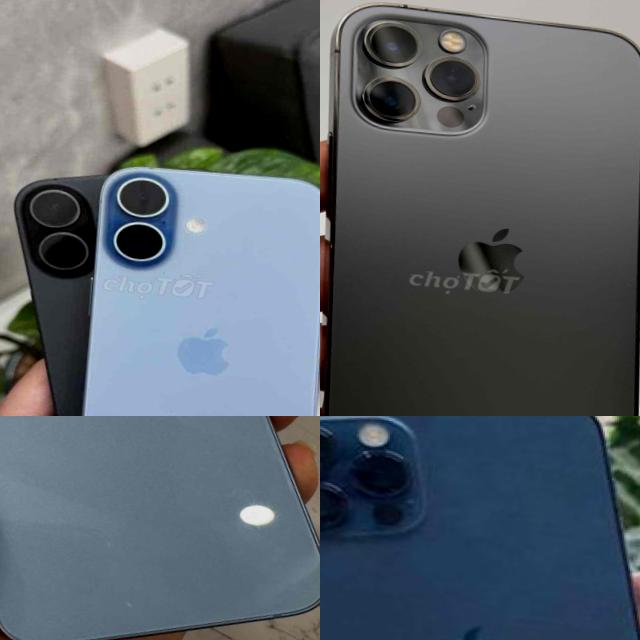gen_12_13: (320, 0, 640, 416), (320, 416, 640, 640)
gen_14: (0, 416, 320, 640)
gen_17: (79, 154, 320, 416)
